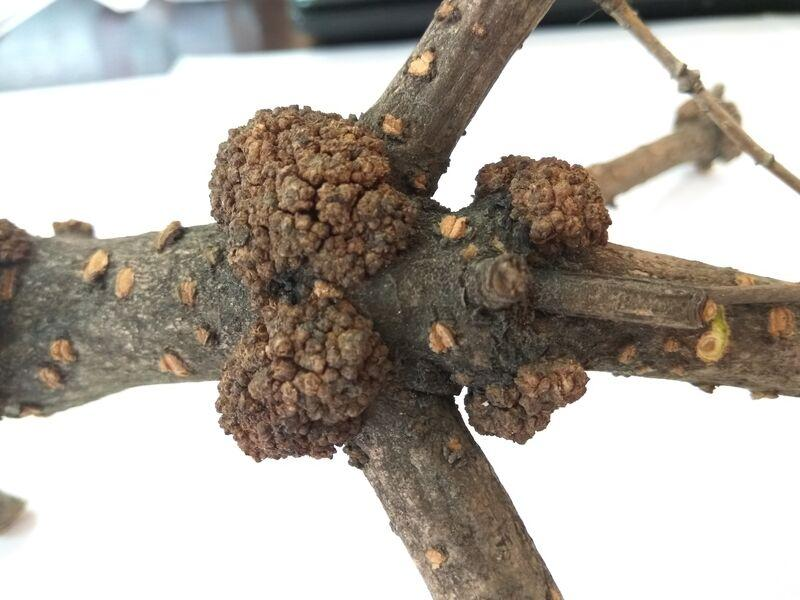kap: (209, 106, 418, 460), (476, 156, 610, 253), (465, 358, 587, 442)
